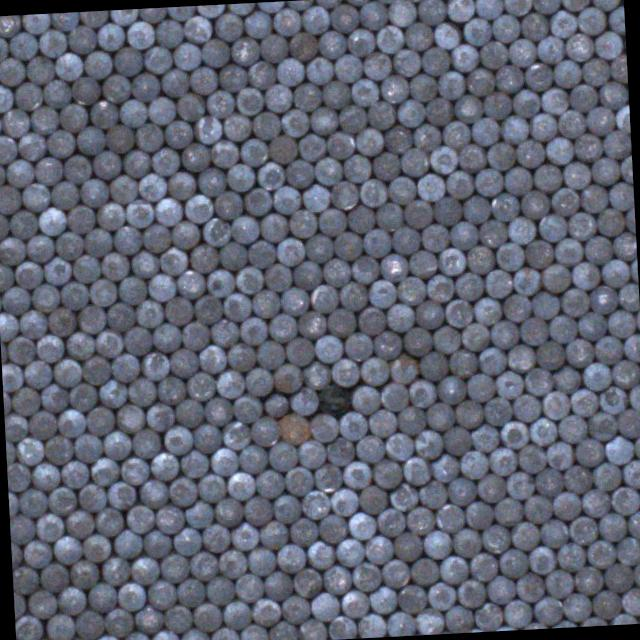tool: (278, 412, 310, 444), (74, 609, 105, 640), (498, 547, 528, 578), (419, 351, 449, 382), (371, 458, 401, 489), (524, 367, 556, 396), (10, 386, 40, 416), (76, 125, 106, 155), (8, 210, 38, 240), (110, 352, 140, 382), (273, 363, 303, 393), (232, 393, 262, 423), (46, 486, 76, 516), (243, 496, 273, 526), (292, 567, 322, 597), (586, 538, 616, 568), (604, 562, 634, 592), (590, 588, 620, 618), (222, 112, 252, 142), (292, 260, 322, 290), (372, 330, 402, 360), (448, 348, 478, 378), (534, 340, 564, 370), (466, 372, 496, 402), (430, 452, 460, 482), (557, 414, 587, 444), (574, 436, 604, 466), (470, 116, 500, 146), (584, 105, 614, 135), (250, 415, 279, 446), (268, 441, 297, 472), (326, 307, 355, 338), (476, 472, 505, 503), (51, 534, 80, 564), (26, 590, 56, 619), (125, 199, 154, 229), (76, 304, 105, 334), (81, 356, 111, 385), (288, 386, 318, 415), (192, 423, 221, 453), (297, 438, 326, 468), (284, 466, 313, 496), (155, 504, 184, 534), (364, 534, 393, 564), (247, 546, 276, 576), (147, 579, 176, 609), (310, 591, 339, 621), (562, 592, 592, 621), (67, 24, 96, 54), (358, 0, 387, 30), (102, 74, 131, 104), (176, 91, 205, 121), (293, 82, 322, 112), (134, 122, 163, 152), (251, 110, 280, 140), (308, 106, 338, 135), (235, 264, 264, 294), (268, 313, 297, 343), (403, 326, 432, 356), (483, 396, 512, 426), (384, 432, 414, 461), (442, 426, 471, 456), (604, 434, 633, 464), (418, 479, 447, 509), (505, 470, 534, 500), (435, 502, 464, 532), (493, 496, 522, 526), (610, 486, 640, 515), (580, 488, 610, 517), (564, 32, 593, 62), (362, 50, 391, 80), (452, 93, 482, 122), (528, 112, 557, 142), (554, 237, 584, 266), (600, 258, 630, 287), (541, 262, 570, 292), (397, 276, 426, 306), (302, 361, 330, 392), (414, 429, 442, 460), (116, 582, 145, 611), (54, 52, 83, 81), (0, 108, 29, 137), (137, 172, 166, 201), (98, 378, 127, 407), (187, 372, 216, 401), (27, 410, 56, 439), (116, 403, 145, 432), (368, 408, 397, 437), (73, 433, 102, 462), (238, 443, 267, 472), (255, 469, 284, 498), (65, 509, 94, 538), (348, 511, 377, 540), (163, 604, 192, 633), (452, 528, 481, 557), (568, 516, 597, 545), (182, 14, 211, 43), (200, 38, 229, 67), (289, 31, 318, 60), (193, 115, 222, 144), (276, 237, 305, 266), (206, 268, 235, 297), (357, 307, 386, 336), (344, 332, 373, 361), (506, 343, 535, 372), (356, 434, 385, 463), (342, 460, 371, 489), (389, 482, 418, 511), (333, 53, 362, 82), (35, 511, 63, 541), (82, 532, 110, 562), (40, 562, 68, 592), (70, 558, 98, 588), (134, 604, 162, 634), (70, 76, 98, 106), (28, 106, 58, 134), (59, 102, 87, 132), (104, 124, 134, 152), (150, 147, 180, 175), (38, 206, 66, 236), (54, 232, 84, 260), (158, 246, 186, 276), (19, 308, 47, 338), (40, 382, 68, 412), (350, 385, 380, 413), (44, 434, 72, 464), (103, 430, 131, 460), (132, 428, 160, 458), (164, 424, 192, 454), (222, 420, 250, 450), (60, 458, 88, 488), (106, 480, 136, 508), (302, 490, 330, 520), (114, 528, 142, 558), (230, 520, 258, 550), (318, 513, 346, 543), (130, 556, 160, 584), (188, 552, 218, 580), (234, 572, 262, 602), (264, 570, 292, 600), (392, 532, 422, 560), (510, 521, 540, 549), (538, 519, 568, 547), (380, 558, 408, 588), (470, 552, 498, 582), (545, 568, 573, 598), (534, 595, 562, 625), (444, 604, 472, 634), (474, 602, 502, 632), (230, 36, 258, 66), (404, 22, 434, 50), (376, 24, 404, 54), (182, 142, 210, 172), (268, 134, 296, 164), (197, 166, 225, 196), (226, 162, 254, 192), (184, 194, 214, 222), (272, 184, 300, 214), (330, 180, 358, 210), (202, 216, 230, 246), (362, 228, 390, 258), (280, 286, 308, 316), (310, 284, 338, 314), (368, 278, 396, 308), (256, 340, 284, 370), (285, 336, 313, 366), (314, 334, 342, 364), (565, 337, 593, 367), (407, 378, 435, 408), (398, 405, 426, 435), (454, 399, 482, 429), (542, 390, 570, 420), (470, 423, 498, 453), (488, 446, 516, 476), (518, 444, 546, 474), (588, 412, 616, 442), (376, 506, 404, 536), (523, 494, 551, 524), (592, 460, 620, 490), (463, 16, 491, 46), (536, 34, 564, 64), (508, 38, 536, 68), (421, 46, 449, 76), (450, 42, 478, 72), (380, 74, 408, 104), (397, 98, 425, 128), (314, 155, 342, 185), (372, 151, 400, 181), (558, 108, 586, 138), (516, 138, 544, 168), (416, 172, 444, 202), (404, 198, 432, 228), (538, 212, 566, 242), (466, 244, 494, 274), (414, 300, 442, 330), (474, 296, 502, 326), (490, 320, 518, 350), (197, 472, 224, 503), (23, 539, 51, 568), (45, 612, 74, 640), (14, 81, 42, 110), (89, 100, 118, 128), (119, 99, 147, 128), (146, 95, 174, 124), (6, 158, 34, 187), (34, 157, 62, 186), (122, 150, 150, 179), (80, 178, 108, 207), (97, 202, 125, 231), (142, 224, 170, 253), (72, 254, 100, 283), (1, 286, 30, 314), (146, 273, 174, 302), (46, 308, 75, 336), (164, 296, 192, 325), (210, 318, 238, 347), (181, 321, 209, 350), (95, 330, 124, 358), (170, 348, 198, 377), (156, 376, 184, 405), (57, 408, 85, 437), (204, 397, 232, 426), (310, 413, 338, 442), (339, 411, 367, 440), (380, 382, 408, 411), (170, 477, 198, 506), (314, 463, 342, 492), (94, 507, 122, 536), (126, 504, 154, 533), (172, 527, 200, 556), (259, 520, 287, 549), (277, 544, 305, 573), (176, 577, 204, 606), (322, 565, 350, 594), (251, 598, 280, 626), (192, 602, 220, 631), (598, 511, 626, 540), (574, 566, 603, 594), (438, 555, 466, 584), (486, 574, 514, 603), (397, 584, 425, 613), (214, 13, 242, 42), (302, 5, 330, 34), (318, 30, 346, 59), (131, 72, 159, 101), (160, 68, 188, 97), (206, 89, 234, 118), (305, 56, 334, 84), (280, 108, 308, 137), (210, 139, 238, 168), (256, 161, 284, 190), (285, 160, 314, 188), (170, 220, 199, 248), (189, 244, 218, 272), (219, 241, 247, 270), (334, 231, 362, 260), (263, 262, 291, 291), (252, 289, 280, 318), (296, 310, 325, 338), (386, 303, 414, 332), (595, 336, 623, 365), (494, 370, 522, 399), (610, 359, 638, 388), (512, 393, 540, 422), (570, 388, 598, 417), (460, 450, 488, 479), (358, 485, 386, 514), (447, 477, 476, 505), (465, 500, 493, 529), (492, 13, 520, 42), (520, 12, 548, 41), (576, 7, 604, 36), (350, 77, 378, 106), (409, 73, 437, 102), (494, 64, 522, 93), (552, 59, 580, 88), (384, 125, 412, 154), (568, 83, 596, 112), (500, 115, 528, 144), (400, 147, 428, 176), (429, 145, 457, 174), (474, 167, 502, 196), (346, 204, 374, 233), (374, 202, 402, 231), (491, 192, 519, 221), (478, 220, 507, 248), (567, 211, 596, 239), (408, 249, 436, 278), (438, 247, 466, 276), (444, 299, 472, 328), (548, 314, 577, 342), (15, 436, 42, 466), (22, 182, 49, 212), (153, 322, 180, 352), (389, 354, 416, 384), (181, 448, 208, 478), (211, 446, 238, 476), (224, 600, 251, 630), (481, 524, 508, 554), (352, 562, 379, 592), (457, 578, 484, 608), (167, 170, 194, 200), (154, 196, 181, 226), (214, 190, 241, 220), (340, 281, 367, 311), (564, 464, 591, 494), (479, 40, 506, 70), (437, 70, 464, 100), (355, 126, 382, 156), (442, 120, 469, 150), (421, 222, 448, 252), (449, 220, 476, 250), (590, 284, 617, 314), (102, 556, 130, 584), (104, 608, 132, 636), (42, 80, 70, 108), (92, 150, 120, 178), (26, 234, 54, 262), (14, 260, 42, 288), (118, 276, 146, 304), (106, 303, 134, 331), (135, 300, 163, 328), (7, 335, 35, 363), (24, 360, 52, 388), (54, 358, 82, 386), (68, 382, 96, 410), (146, 404, 174, 432), (360, 356, 388, 384), (90, 456, 118, 484), (120, 456, 148, 484), (214, 498, 242, 526), (202, 524, 230, 552), (290, 517, 318, 545), (336, 538, 364, 566), (160, 554, 188, 582), (218, 549, 246, 577), (423, 530, 451, 558), (556, 542, 584, 570), (516, 573, 544, 601), (368, 584, 396, 612), (426, 580, 454, 608), (502, 598, 530, 626), (414, 608, 442, 636), (96, 22, 124, 50), (243, 10, 271, 38), (272, 8, 300, 36), (329, 4, 357, 32), (84, 50, 112, 78), (143, 46, 171, 74), (172, 42, 200, 70), (259, 34, 287, 62), (346, 28, 374, 56), (264, 84, 292, 112), (239, 138, 267, 166), (298, 133, 326, 161), (243, 187, 271, 215), (302, 184, 330, 212), (230, 215, 258, 243), (260, 214, 288, 242), (288, 210, 316, 238), (248, 239, 276, 267), (305, 234, 333, 262), (223, 292, 251, 320), (432, 325, 460, 353), (478, 346, 506, 374), (437, 375, 465, 403), (598, 386, 626, 414), (326, 437, 354, 465), (402, 456, 430, 484), (500, 420, 528, 448), (406, 506, 434, 534), (552, 492, 580, 520), (392, 48, 420, 76), (524, 62, 552, 90), (582, 57, 610, 85), (338, 104, 366, 132), (482, 92, 510, 120), (326, 130, 354, 158), (412, 122, 440, 150), (598, 82, 626, 110), (457, 143, 485, 171), (359, 178, 387, 206), (534, 164, 562, 192), (318, 207, 346, 235), (520, 190, 548, 218), (550, 187, 578, 215), (496, 242, 524, 270), (525, 240, 553, 268), (584, 236, 612, 264), (512, 268, 540, 296), (560, 288, 588, 316), (454, 272, 482, 300), (460, 324, 488, 352), (520, 316, 548, 344), (32, 462, 59, 491), (58, 585, 85, 614), (26, 56, 53, 85), (67, 205, 94, 234), (84, 228, 111, 257), (114, 225, 141, 254), (195, 295, 222, 324), (199, 344, 226, 373), (228, 342, 255, 371), (245, 367, 272, 396), (216, 369, 243, 398), (87, 406, 114, 435), (149, 452, 178, 479), (227, 471, 254, 500), (114, 46, 141, 75), (386, 0, 415, 27), (277, 56, 304, 85), (235, 86, 262, 115), (352, 255, 379, 284), (425, 402, 454, 429), (466, 67, 493, 96), (425, 96, 452, 125), (445, 169, 472, 198), (434, 196, 461, 225), (461, 196, 490, 223), (386, 610, 416, 636), (546, 440, 572, 470), (608, 310, 634, 340), (18, 132, 46, 159), (44, 256, 71, 284), (32, 284, 59, 312), (61, 282, 88, 310), (89, 278, 116, 306), (177, 270, 204, 298), (124, 326, 151, 354), (141, 352, 169, 379), (177, 399, 204, 427), (330, 488, 357, 516), (184, 500, 212, 527), (206, 576, 233, 604), (282, 596, 309, 624), (127, 20, 154, 48), (190, 66, 217, 94), (165, 120, 192, 148), (582, 362, 610, 389), (594, 32, 622, 59), (322, 80, 349, 108), (512, 90, 539, 118), (540, 87, 568, 114), (487, 142, 514, 170), (545, 137, 573, 164), (504, 167, 532, 194), (392, 226, 419, 254), (507, 216, 535, 243), (596, 208, 624, 235), (571, 261, 598, 289), (502, 293, 530, 320), (530, 291, 558, 318), (578, 312, 606, 339), (110, 174, 136, 203), (128, 377, 154, 406), (332, 358, 358, 387), (142, 479, 168, 508), (274, 494, 300, 523), (308, 540, 334, 569), (324, 258, 350, 287), (240, 316, 266, 345), (536, 467, 562, 496), (344, 154, 370, 183), (573, 132, 602, 158), (38, 29, 65, 56), (144, 530, 171, 557), (341, 589, 368, 616), (603, 130, 630, 157), (20, 490, 46, 518), (88, 584, 114, 612), (64, 154, 90, 182), (52, 182, 78, 210), (102, 252, 128, 280), (66, 332, 94, 358), (80, 483, 106, 511), (528, 546, 556, 572), (156, 19, 182, 47), (382, 254, 408, 282), (530, 417, 556, 445), (550, 10, 576, 38), (368, 100, 394, 128), (388, 176, 414, 204), (564, 161, 590, 189), (580, 184, 606, 212), (608, 182, 634, 210), (485, 270, 511, 298), (426, 274, 454, 300), (612, 231, 637, 260), (355, 614, 385, 638), (616, 282, 640, 312), (12, 566, 38, 593), (10, 32, 36, 59), (47, 130, 74, 156), (36, 334, 62, 361), (411, 558, 438, 584), (219, 65, 246, 91), (248, 61, 274, 88), (432, 21, 458, 48), (592, 157, 618, 184), (0, 236, 25, 264), (328, 615, 356, 640), (417, 0, 445, 25), (552, 367, 580, 392), (10, 516, 34, 545), (0, 57, 24, 86), (15, 614, 41, 640), (132, 251, 158, 277), (616, 536, 640, 564), (4, 414, 27, 442), (617, 409, 640, 437), (298, 617, 325, 640), (2, 362, 22, 392), (8, 462, 28, 491), (268, 620, 297, 640), (608, 54, 628, 83), (447, 0, 474, 21), (620, 587, 640, 615), (0, 186, 19, 214), (475, 0, 503, 19), (23, 14, 49, 34), (50, 12, 78, 30), (622, 334, 640, 362), (622, 459, 640, 487), (0, 311, 17, 340), (265, 394, 287, 416), (239, 623, 267, 640), (608, 6, 625, 34), (614, 104, 630, 133), (0, 136, 16, 164), (80, 11, 107, 27), (110, 10, 137, 26), (0, 15, 19, 36), (180, 626, 208, 640), (138, 8, 166, 22), (166, 6, 194, 20), (503, 0, 531, 14), (210, 627, 239, 640), (531, 0, 559, 13), (620, 155, 633, 183), (0, 263, 13, 290), (627, 510, 640, 537), (628, 382, 640, 411), (196, 5, 224, 17), (151, 628, 178, 640), (0, 85, 12, 112), (14, 590, 25, 618), (120, 630, 150, 640), (228, 3, 255, 14), (561, 0, 589, 10), (591, 0, 619, 10), (632, 559, 640, 589), (633, 433, 640, 463), (0, 213, 7, 239), (0, 35, 6, 61), (94, 635, 121, 640), (0, 159, 4, 188)
tool_b: (315, 382, 351, 414)
